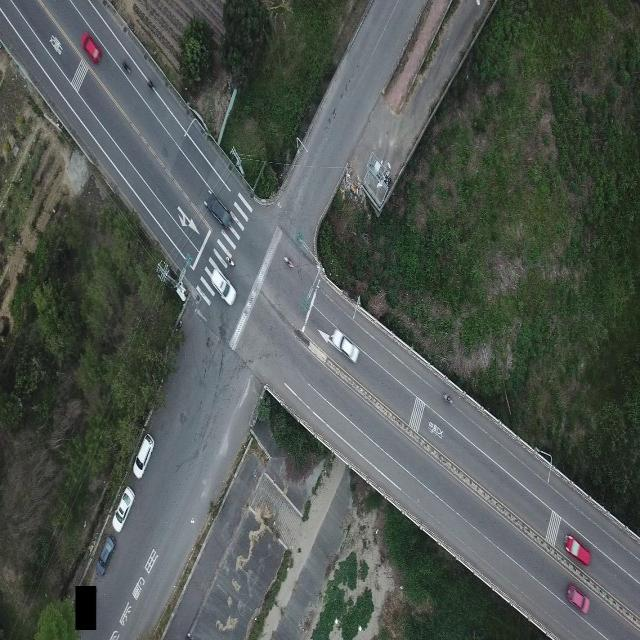bike: (147, 76, 155, 91), (444, 391, 453, 404), (122, 60, 130, 74), (226, 253, 234, 267), (285, 256, 293, 268)
car: (209, 266, 236, 306), (116, 486, 138, 532), (332, 330, 361, 364), (134, 435, 156, 479), (564, 533, 592, 565), (206, 194, 232, 227), (565, 583, 590, 615), (98, 534, 116, 576), (82, 32, 102, 64)
